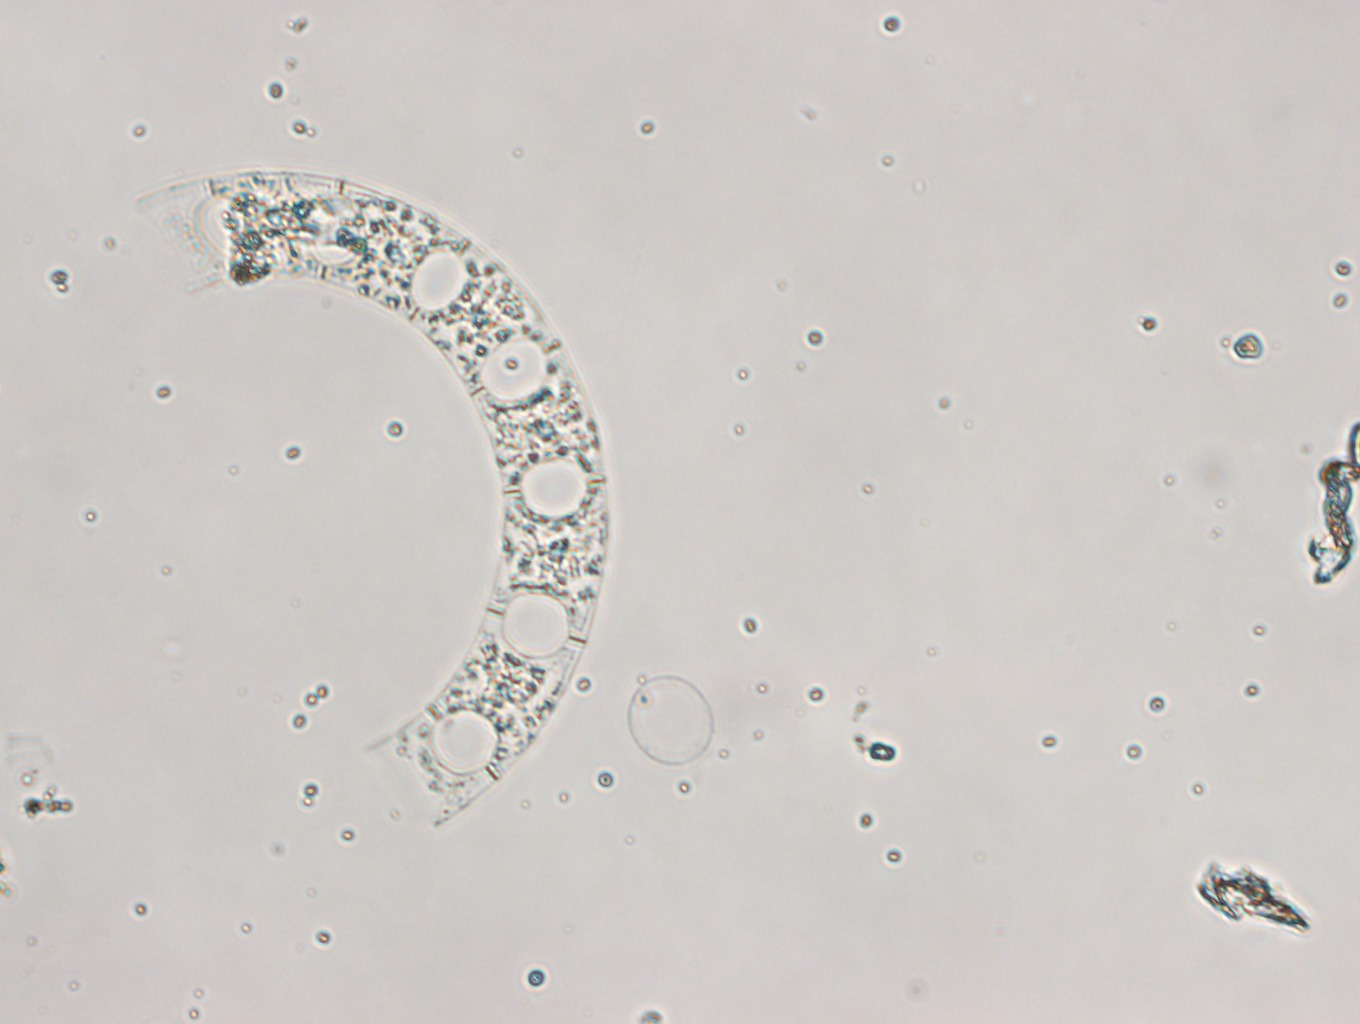eucampia: (140, 167, 612, 831)
